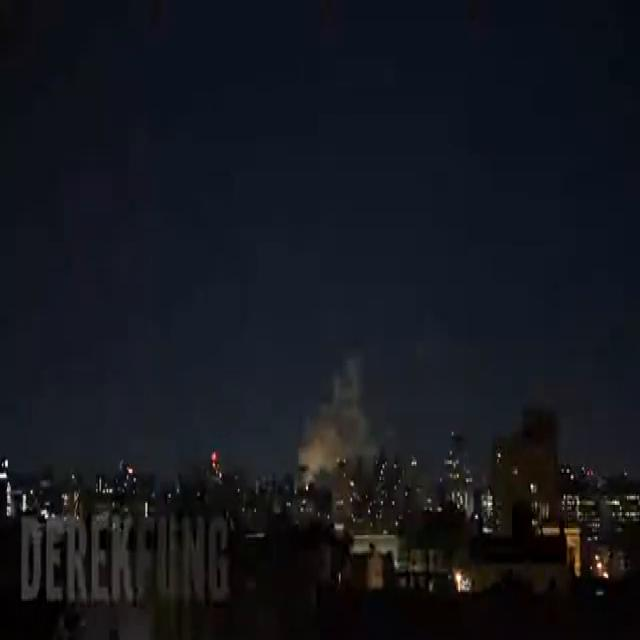smoke: (297, 356, 391, 480), (416, 341, 431, 357)
